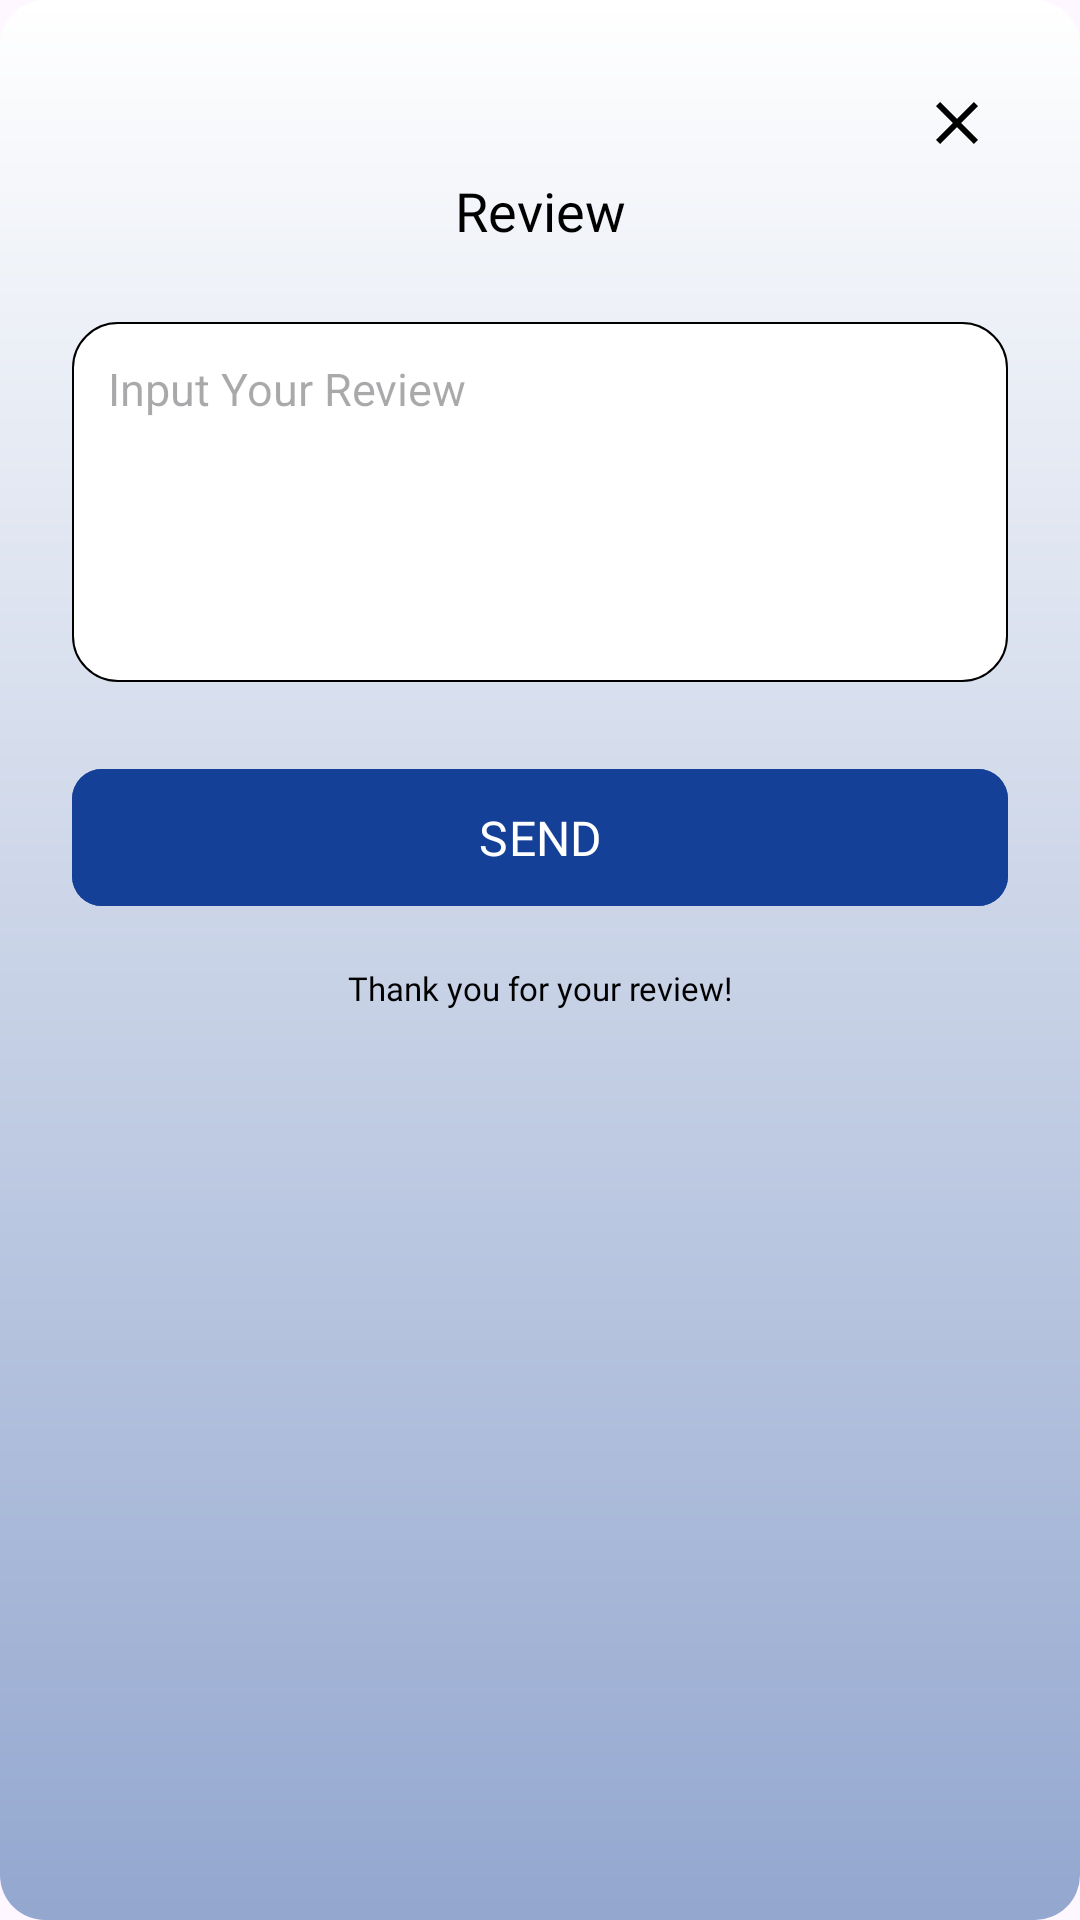

Icons on this 1080w x 1920h Android screen, each with the point to tap as (x=x, y=y):
Close review dialog: (x=957, y=123)
